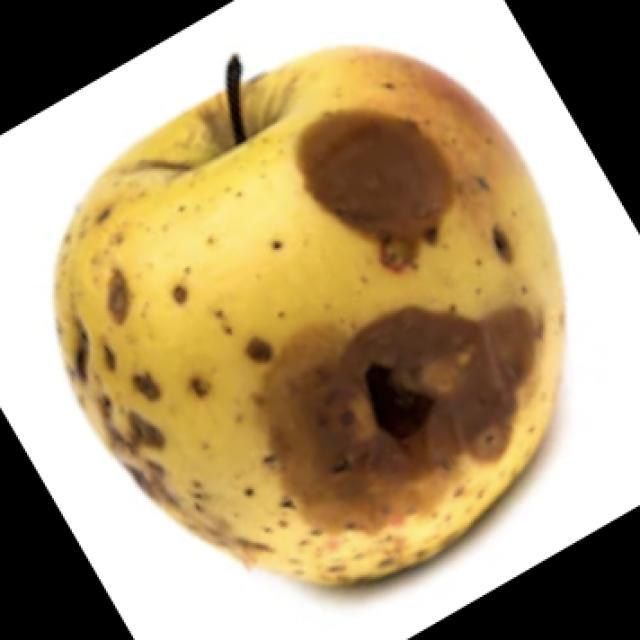Rotten: (70, 53, 565, 585)
